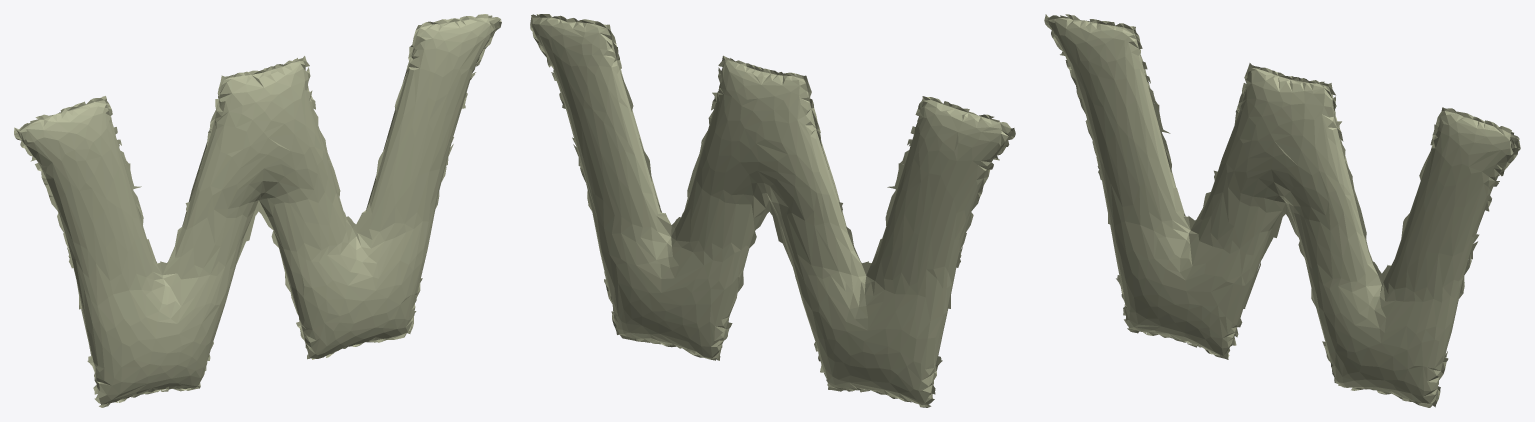
Rendered from tinker.obj.
The picture shows the model from 3 angles, left to right: view 1: azimuth 30°, elevation 25°; view 2: azimuth 150°, elevation 25°; view 3: azimuth 330°, elevation 25°; orthographic projection.
Visible parts, largest first — view 1: obj_0; view 2: obj_0; view 3: obj_0.
Part boxes in pixels (box(x1,y1,x2,y2)): obj_0: box(14, 14, 501, 407); obj_0: box(530, 14, 1015, 407); obj_0: box(1044, 14, 1520, 407).
Size of the model in its own units: 23.67 by 14.75 by 1.87.
